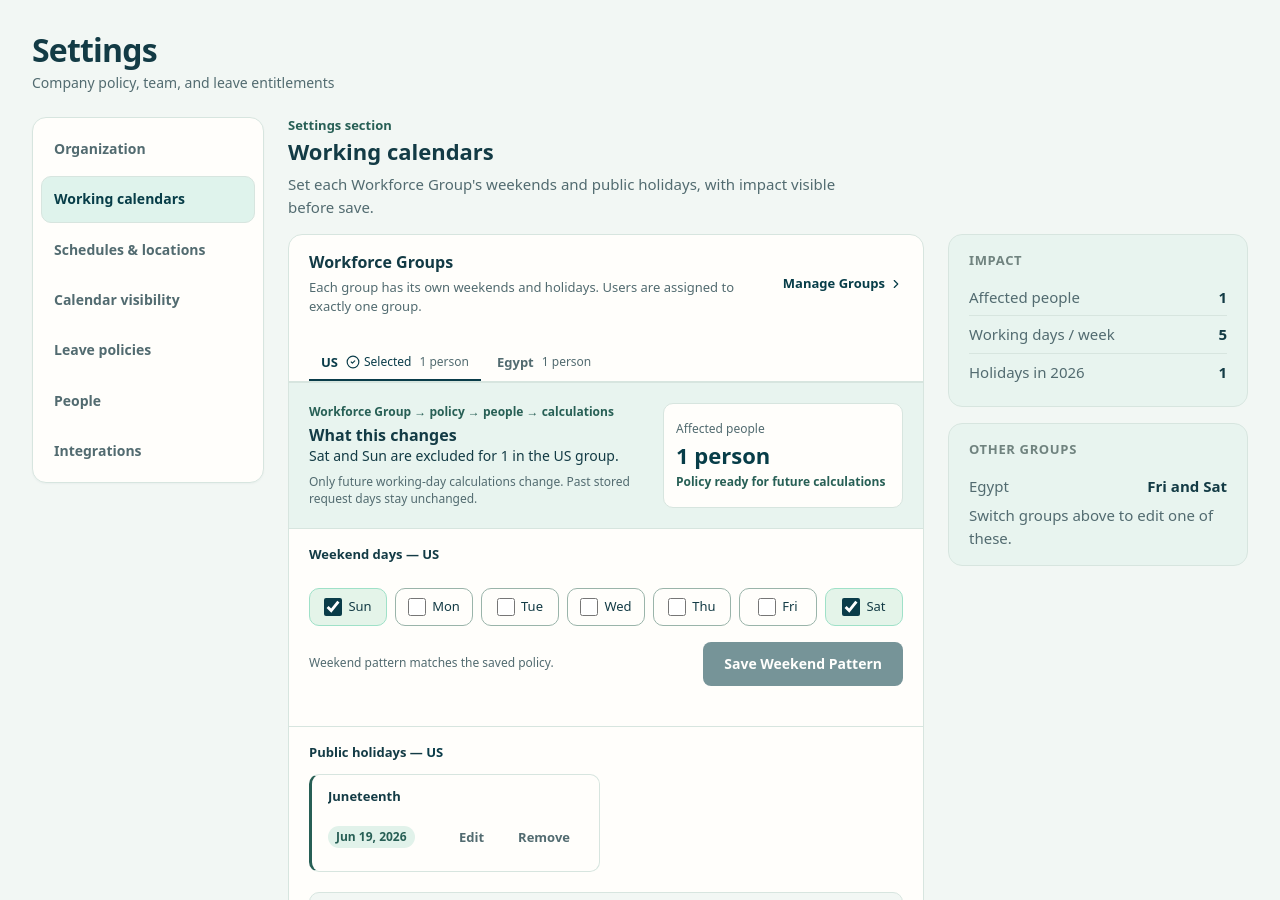
Scenario: SettingsInformationArchitecture ATDD — Story 11.5 › [P0] Given a dirty Working calendars draft, When switching category, Then discard Modal blocks proceed until Discard or Continue
The width and height of the screenshot is (1280, 900).
# Preferred Coastal path: toggle a weekend chip into draft (no immediate PUT).
Click the checkbox named "Fri weekend day for US" at (767, 607), box [758, 598, 776, 616]
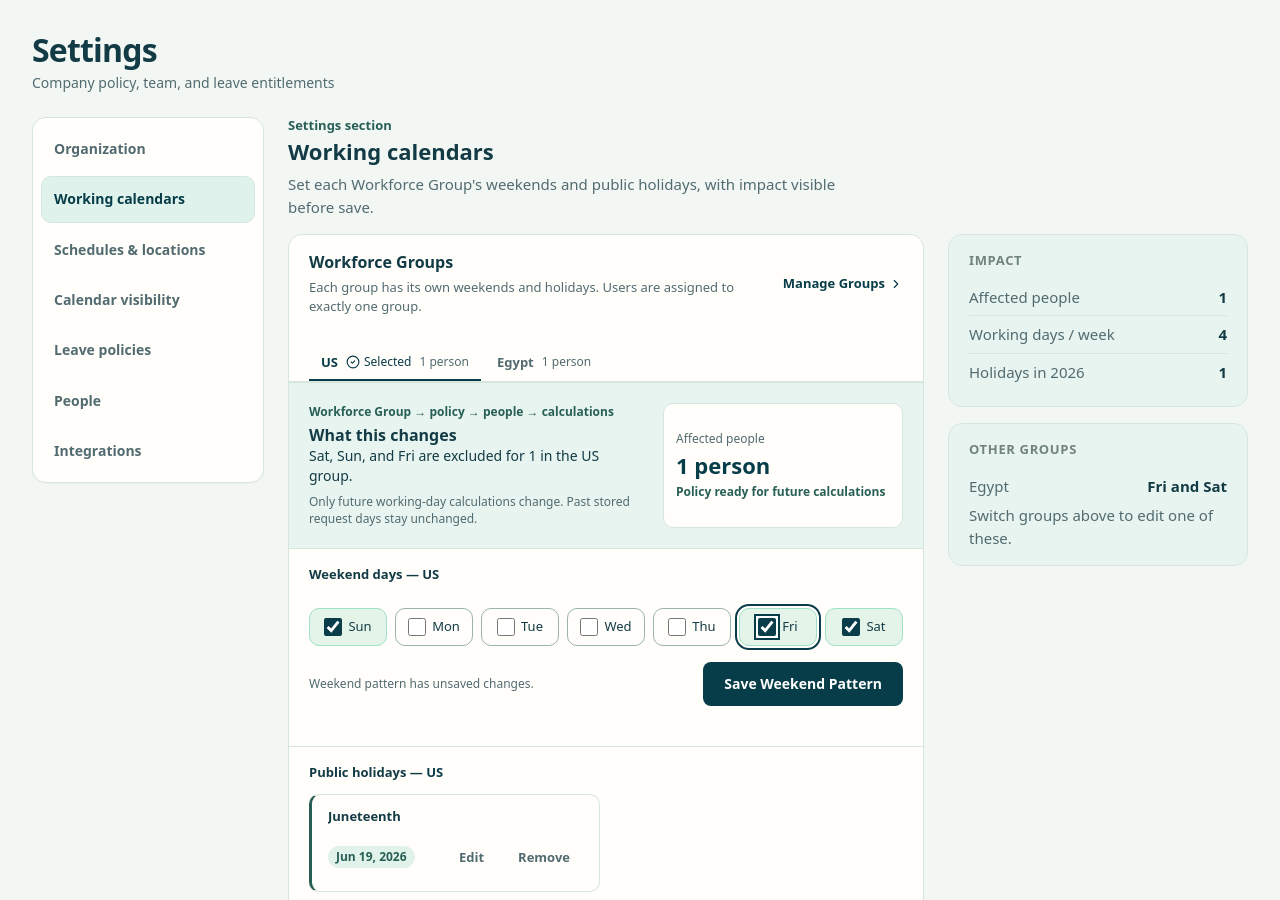
Click the tab with test id "settings-category-people" at (148, 401), box [41, 378, 255, 424]
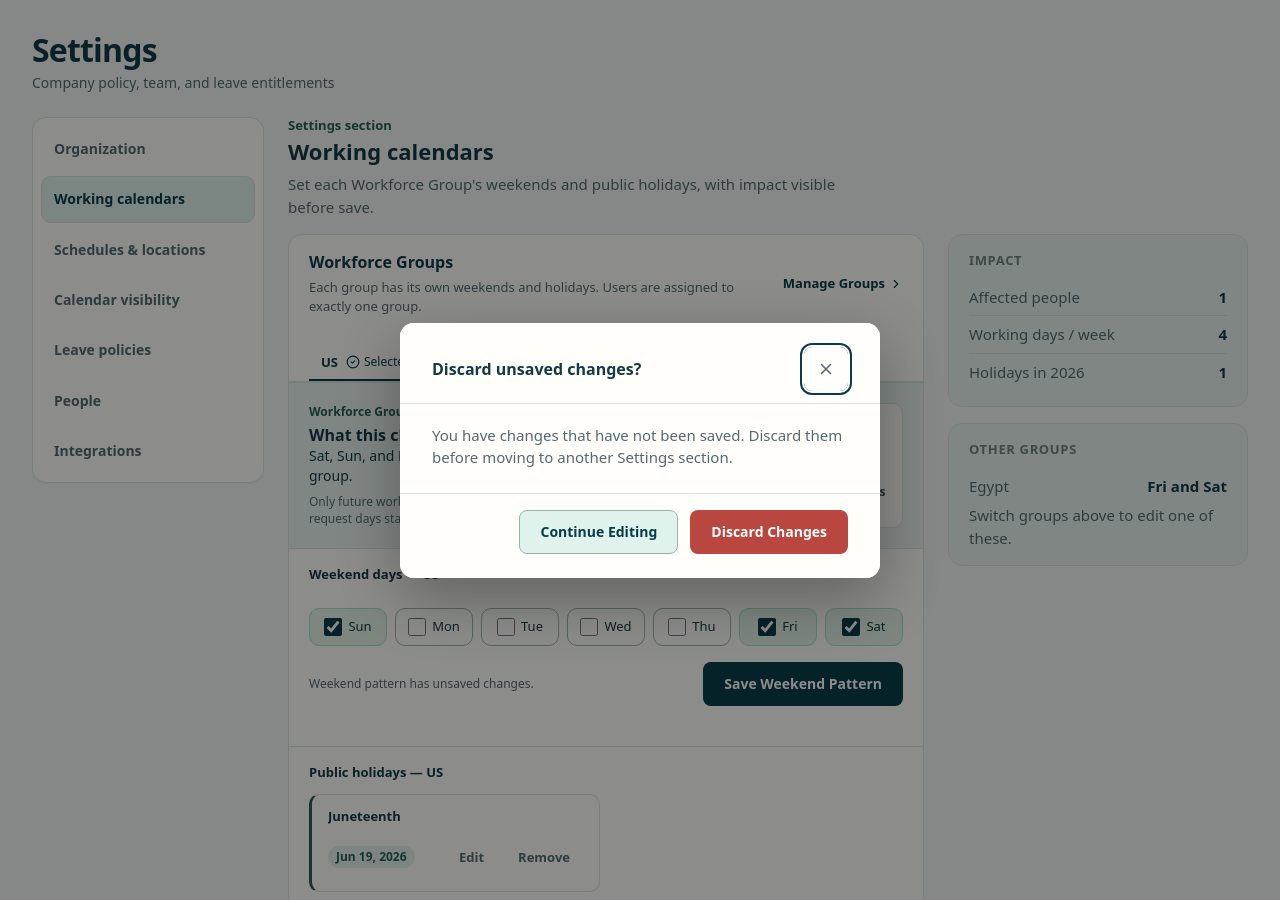
Result: the dialog with test id "settings-unsaved-discard-modal" is shown at [400, 322, 880, 578]
Click the button with test id "settings-unsaved-continue-btn" at (599, 532), box [520, 510, 678, 554]
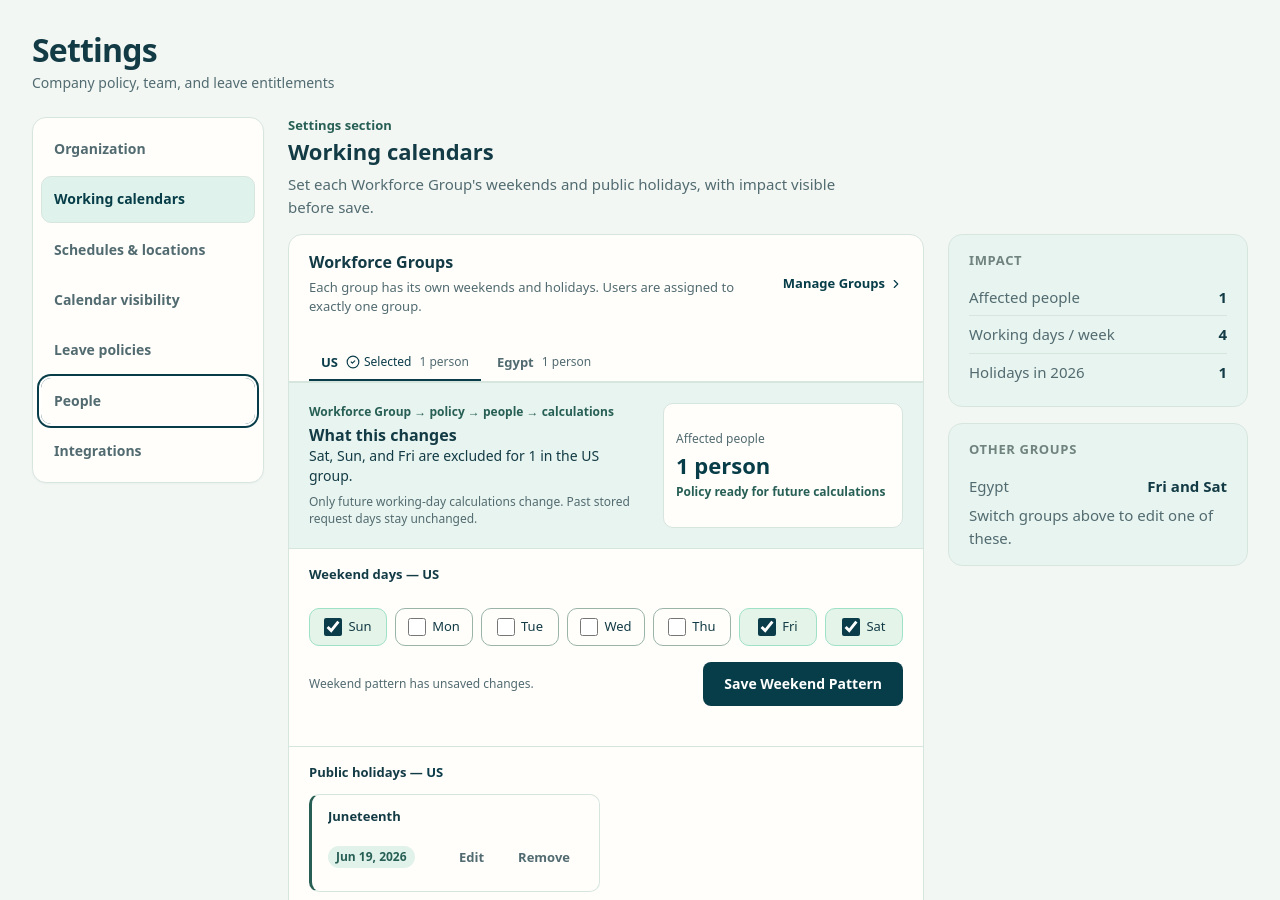
Result: the dialog with test id "settings-unsaved-discard-modal" is gone
Click the tab with test id "settings-category-people" at (148, 401), box [41, 378, 255, 424]
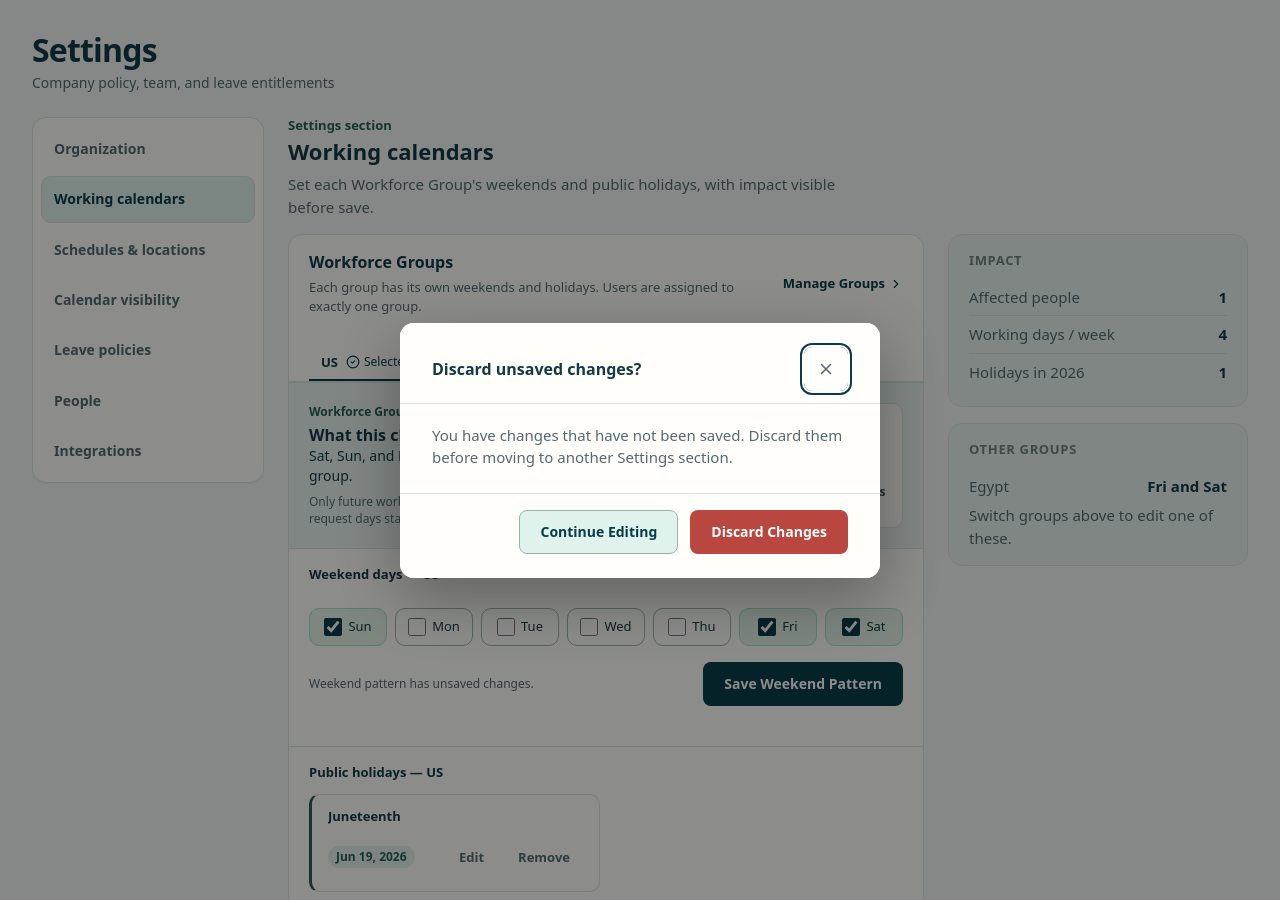
Result: the dialog with test id "settings-unsaved-discard-modal" is shown at [400, 322, 880, 578]
Click the button with test id "settings-unsaved-discard-btn" at (769, 532), box [690, 510, 848, 554]
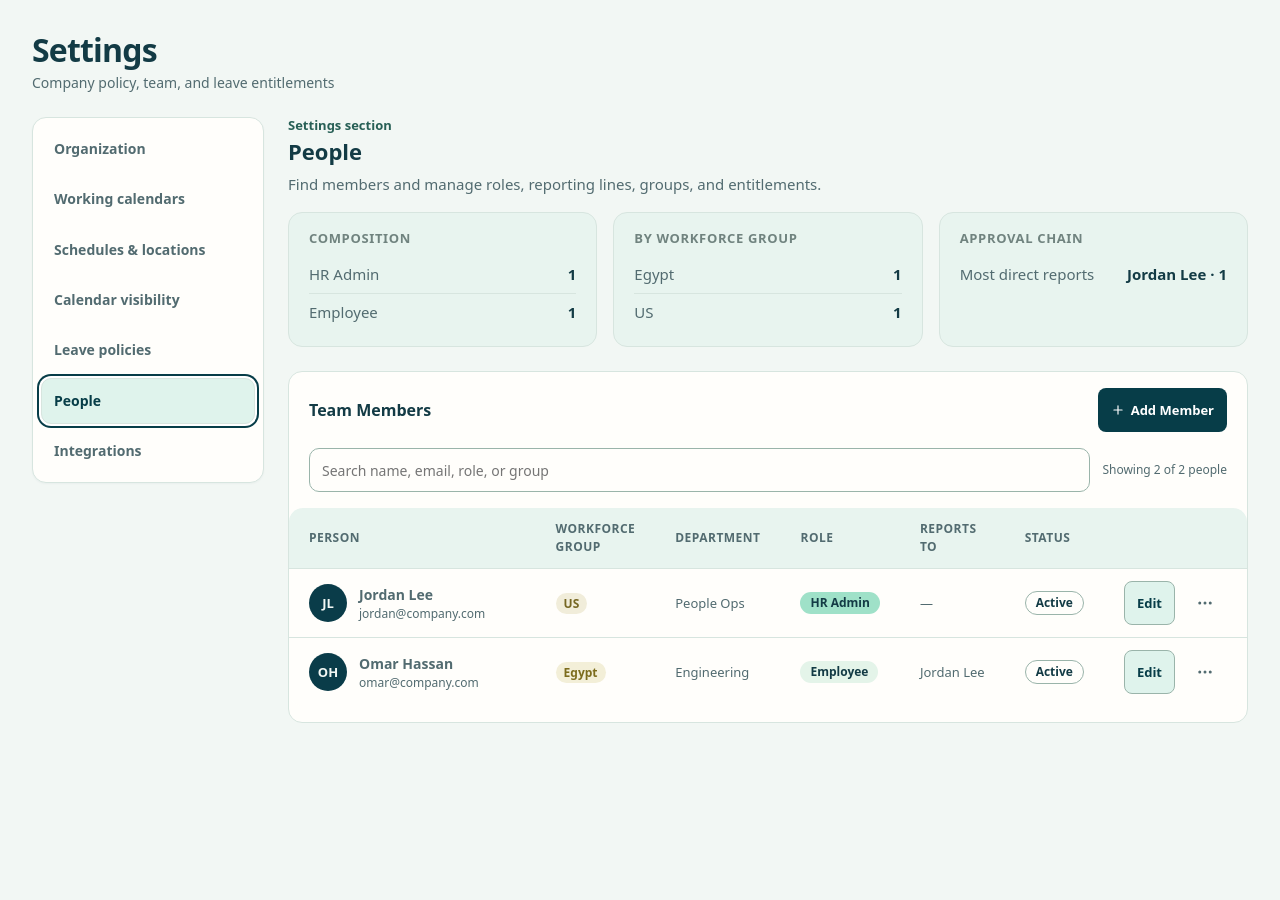
Result: the panel with test id "settings-panel-people" is shown at [288, 212, 1248, 724]
